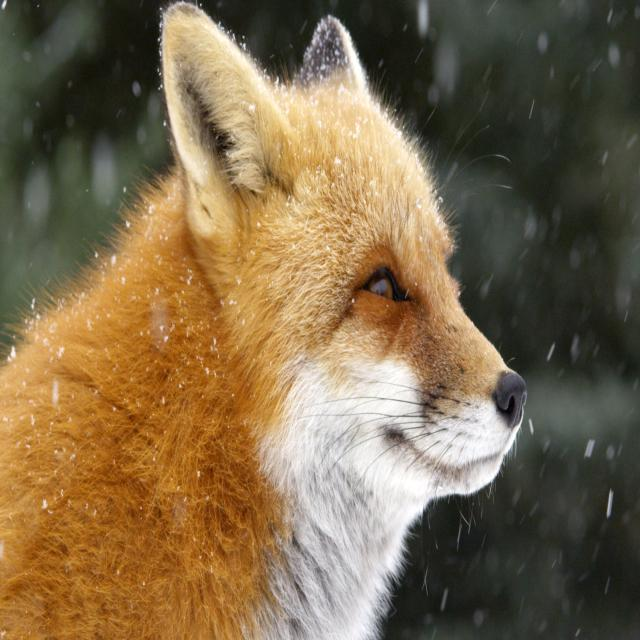fox: (0, 1, 528, 638)
